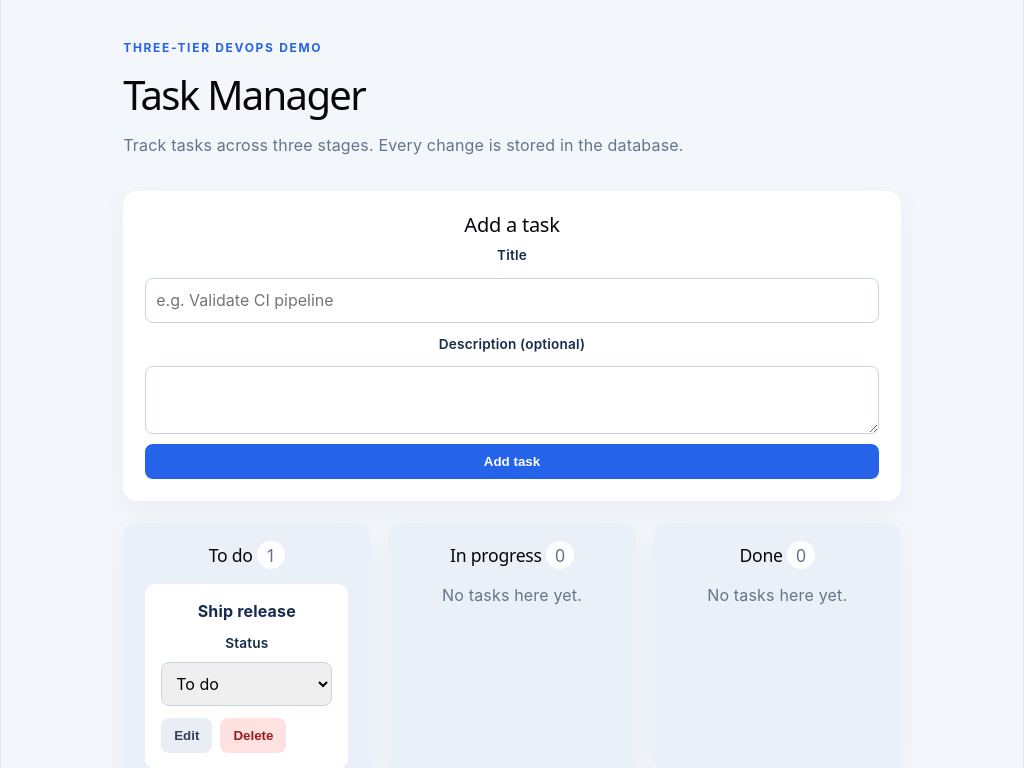
three-stage task board › moves a task to Done using PATCH
Select "Done" in the dropdown named "Status for Ship release" at (247,684), box left=161, top=662, right=332, bottom=706
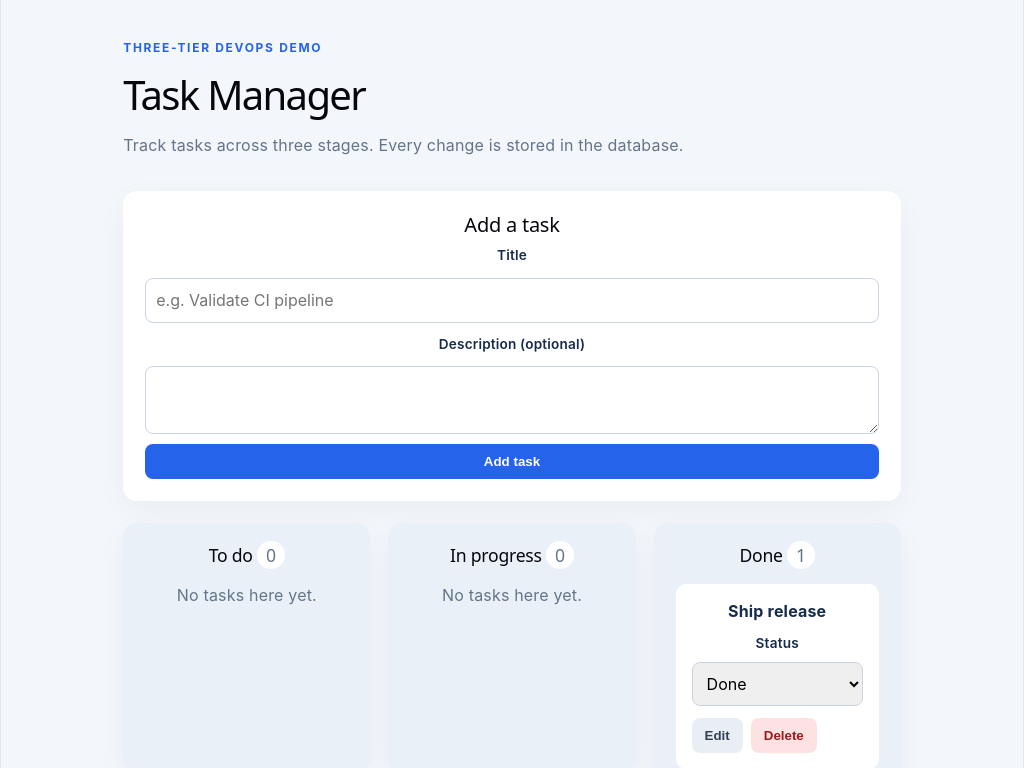
Now the dropdown named "Status for Ship release" shows "Done", box left=692, top=662, right=863, bottom=706
